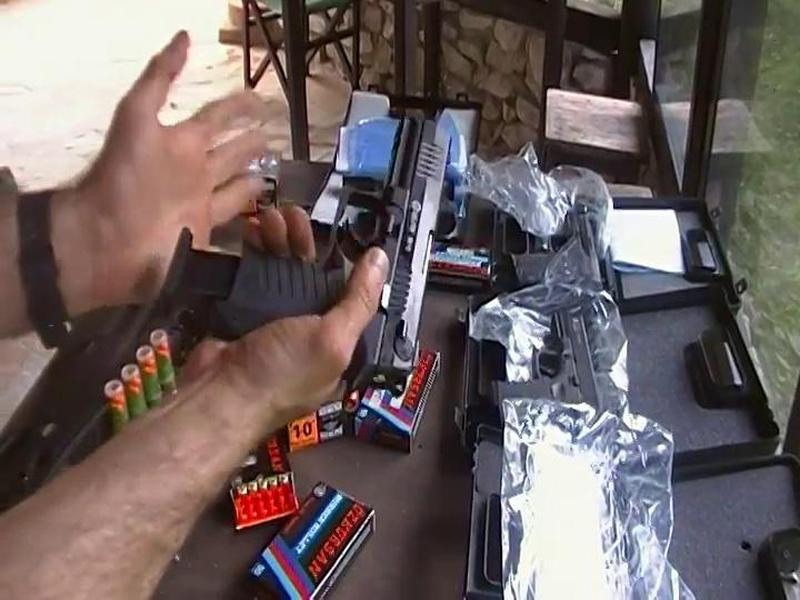Pistola: (190, 102, 454, 410)
